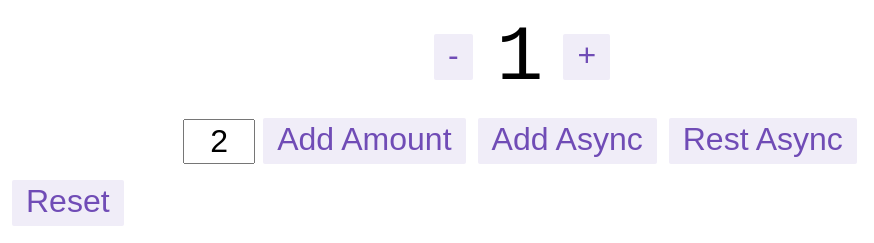
Test: Counter Tests › Render 0 when clicked reset
What coordinates should you click on to do the following:
click the button labelled "Reset"
I would click on:
 (68, 203)
Its box is x1=12 y1=180 x2=124 y2=226.
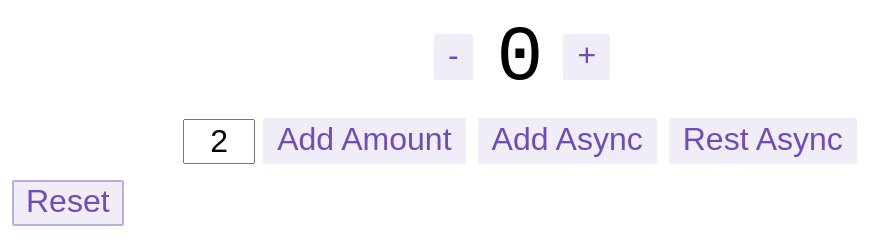
Expected: the text "0" is shown, x1=497 y1=14 x2=543 y2=102
